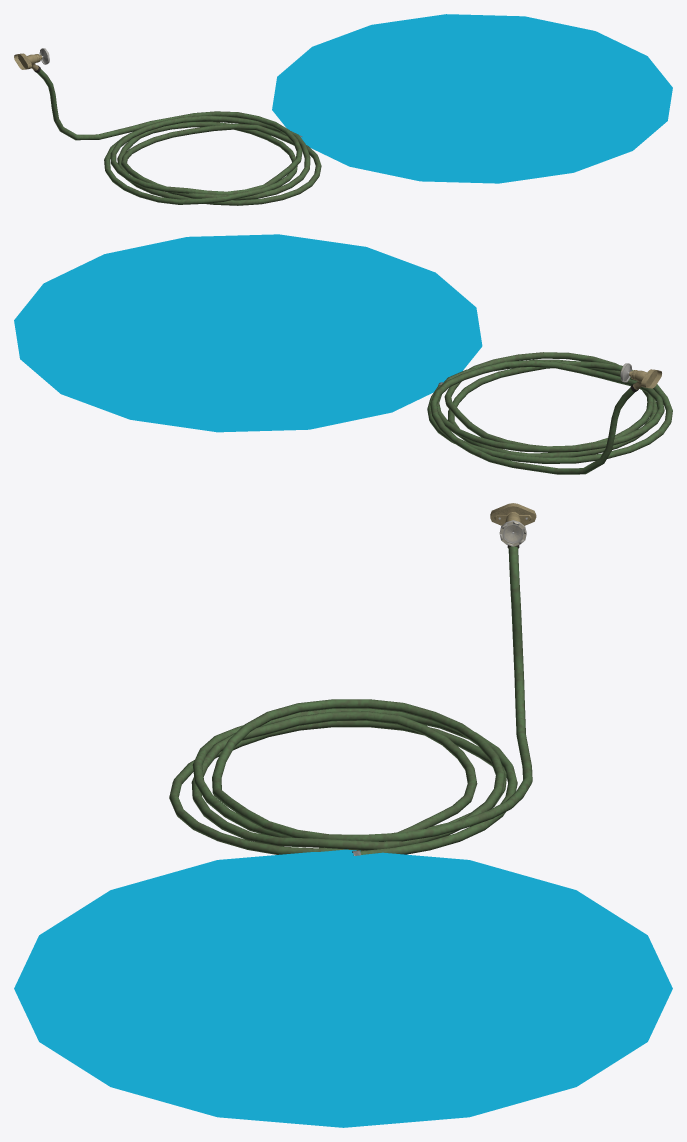
Rendered from HoseOpen.gltf.
3 renders of one model, top to bottom at view 1: azimuth 30°, elevation 25°; view 2: azimuth 150°, elevation 25°; view 3: azimuth 270°, elevation 25°, orthographic. The views are drawn at different scales.
Parts seen in each view (by area): view 1: 円錐, Cube__0; view 2: 円錐, Cube__0; view 3: 円錐, Cube__0.
Boxes of the visible parts, left/top/right/bottom form: 円錐: left=272, top=14, right=672, bottom=183; Cube__0: left=14, top=48, right=321, bottom=205; 円錐: left=14, top=234, right=482, bottom=432; Cube__0: left=427, top=352, right=672, bottom=474; 円錐: left=14, top=849, right=672, bottom=1127; Cube__0: left=169, top=503, right=536, bottom=855.
Size of the model in its own units: 32.2 by 5.81 by 19.63.
2 materials, 1 textured.
